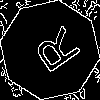R: (25, 25, 83, 81)
